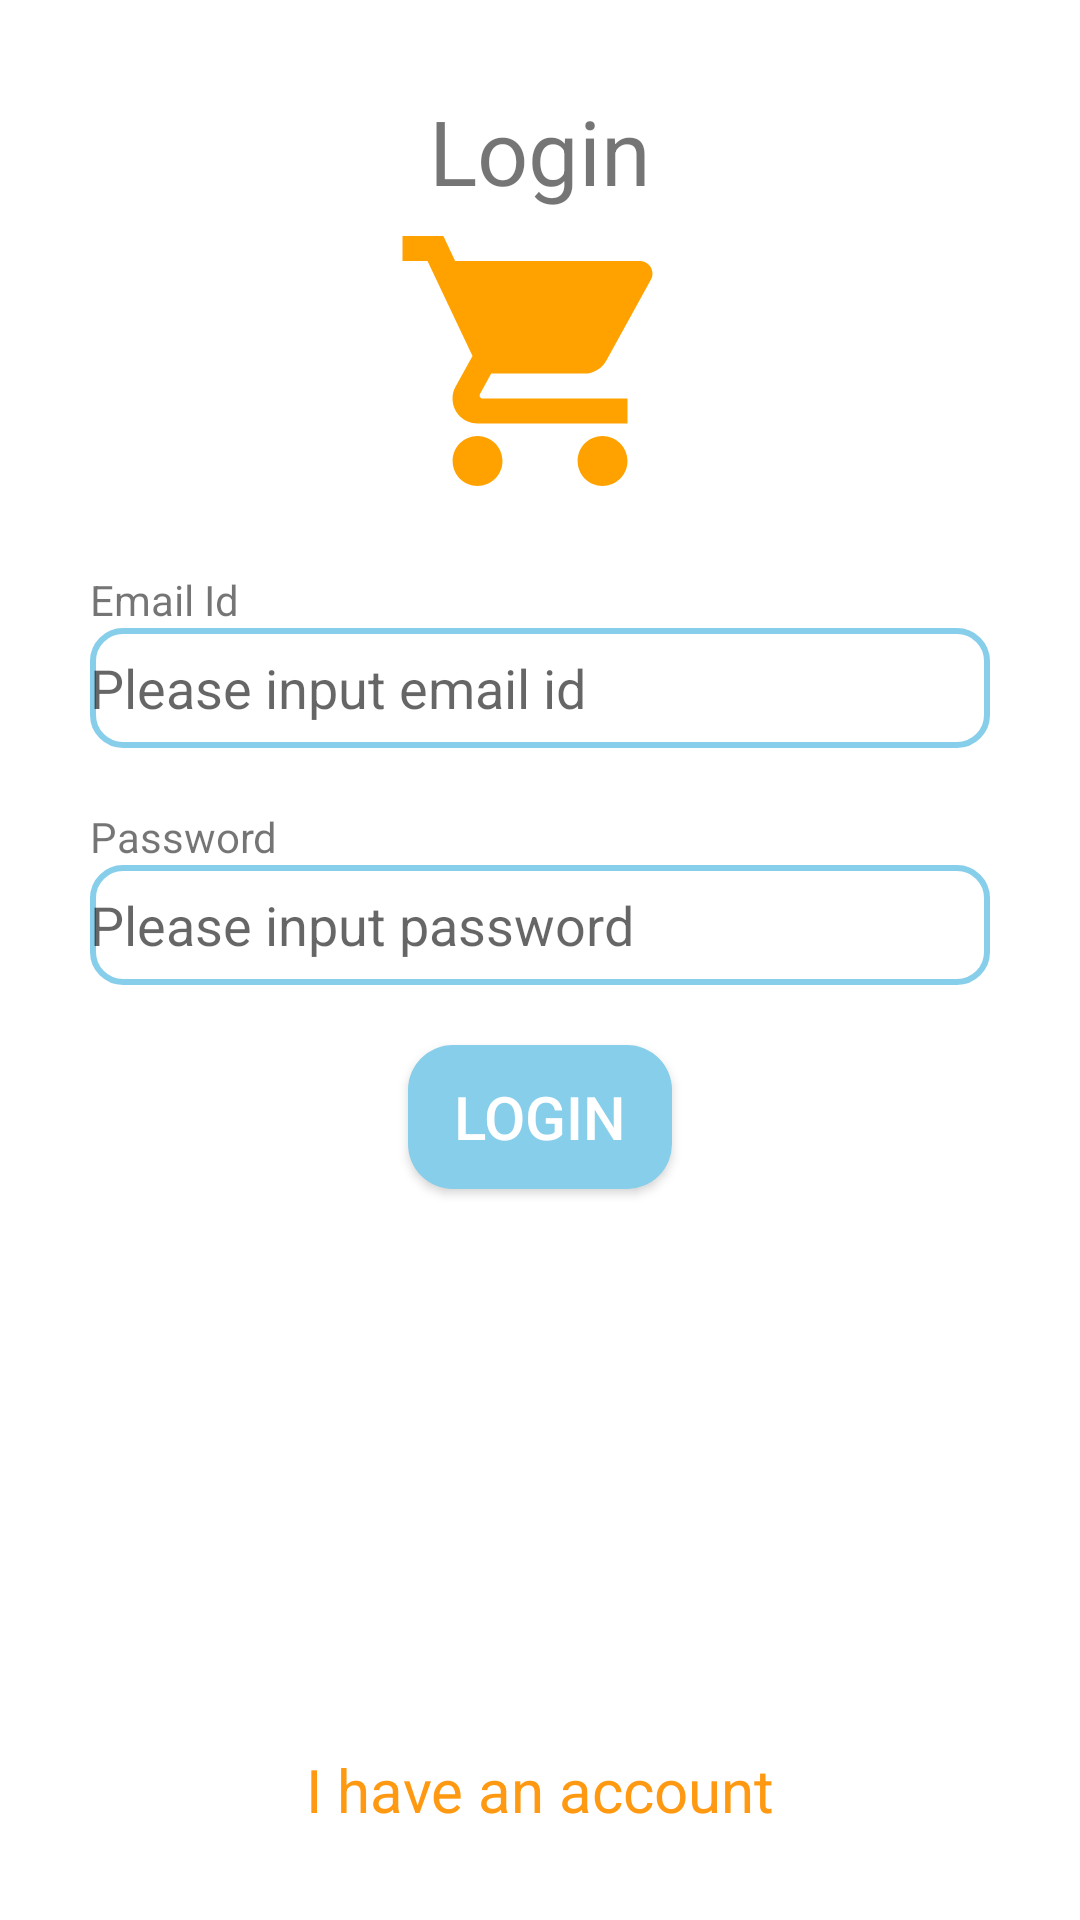

Icon click points for this 1080px×1920px phone screenshot, format (x,y):
shopping cart: (527,361)
